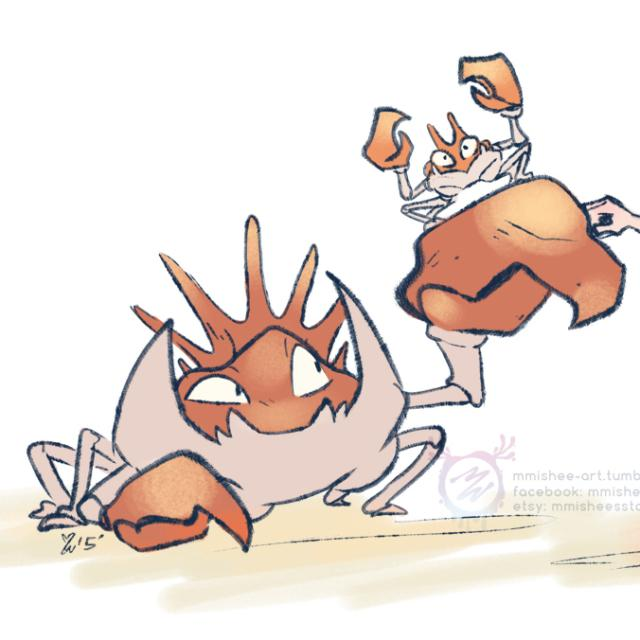Kingler: (52, 243, 488, 548)
Krabby: (351, 42, 539, 205)
